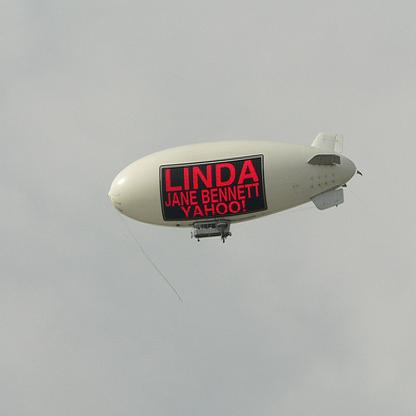Airship: (99, 126, 367, 245)
